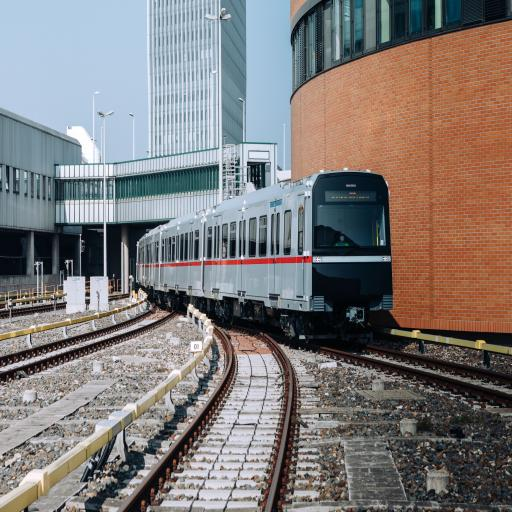X-Wagen: (132, 168, 393, 335)
